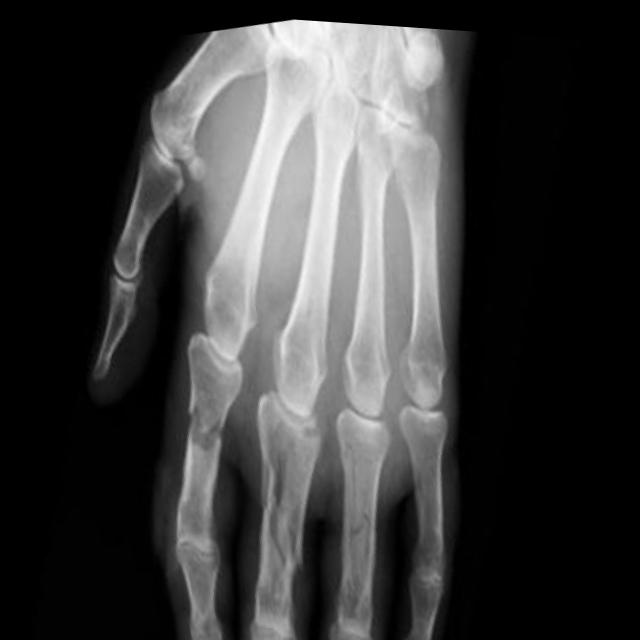fracture: (247, 428, 331, 576), (320, 425, 401, 572)
